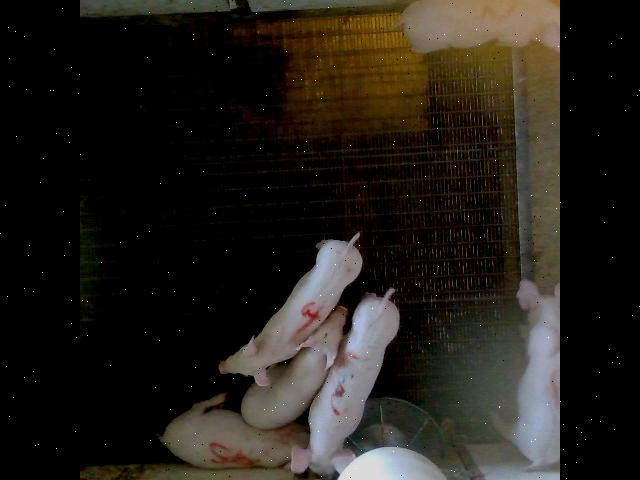pig-1: (511, 279, 559, 465)
pig-2: (401, 0, 558, 51)
pig-3: (290, 289, 398, 472)
pig-4: (219, 232, 362, 384)
pig-5: (156, 391, 309, 468)
